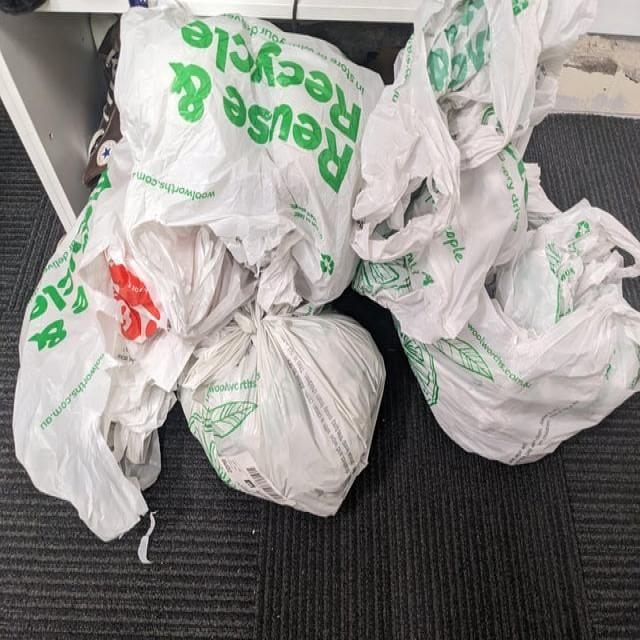plastic_bag: (84, 0, 415, 355), (370, 153, 639, 508), (171, 297, 403, 527)
